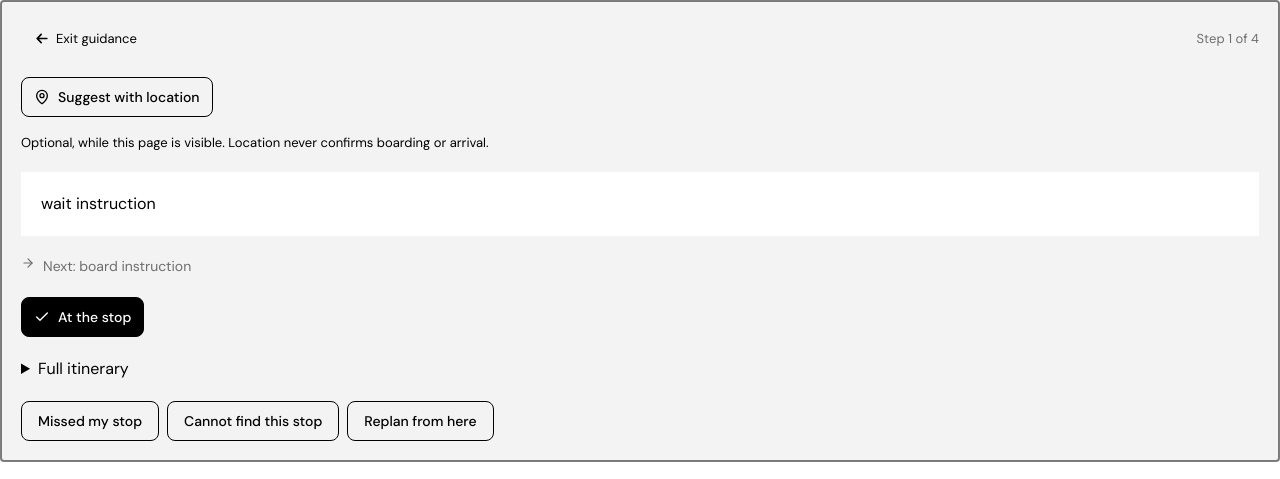
it: Passenger-controlled guidance › requires explicit arrival confirmation and allows undo
Click the button "At the stop": (83, 317) [21, 297, 144, 337]
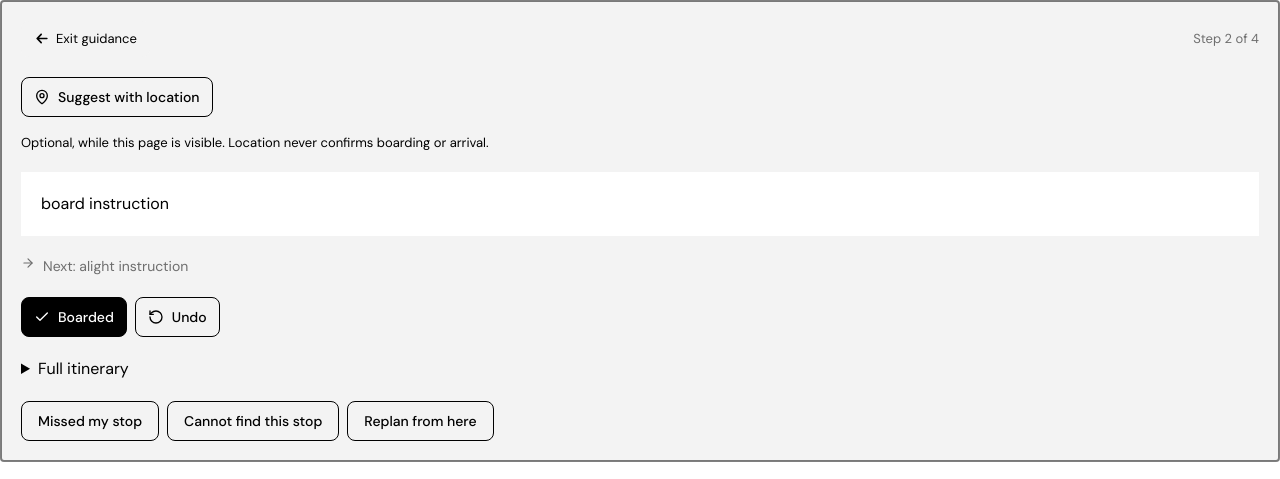
Click the button "Boarded": (74, 317) [21, 297, 127, 337]
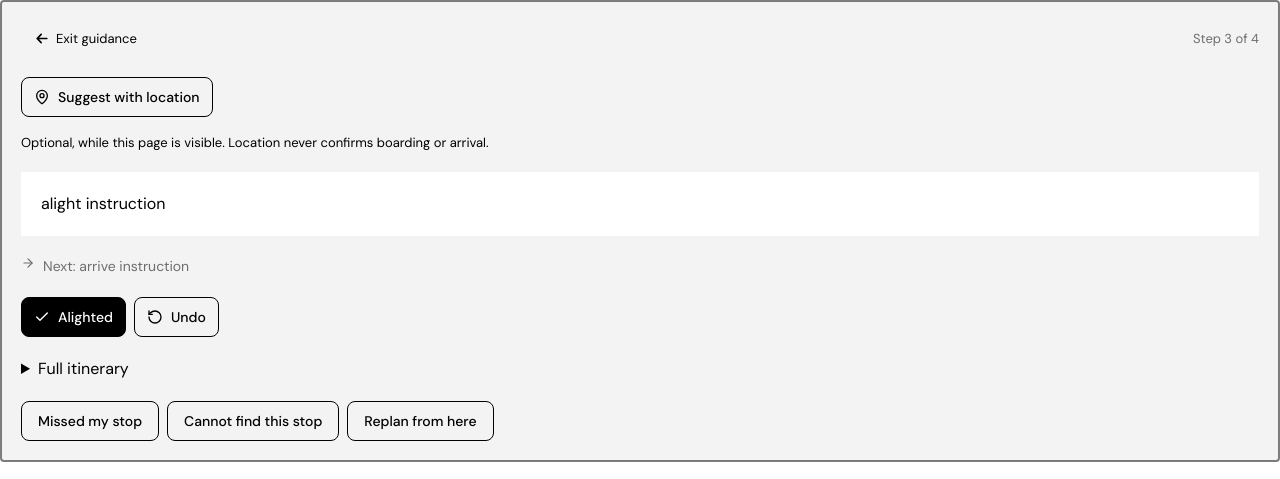
Click the button "Alighted": (74, 317) [21, 297, 126, 337]
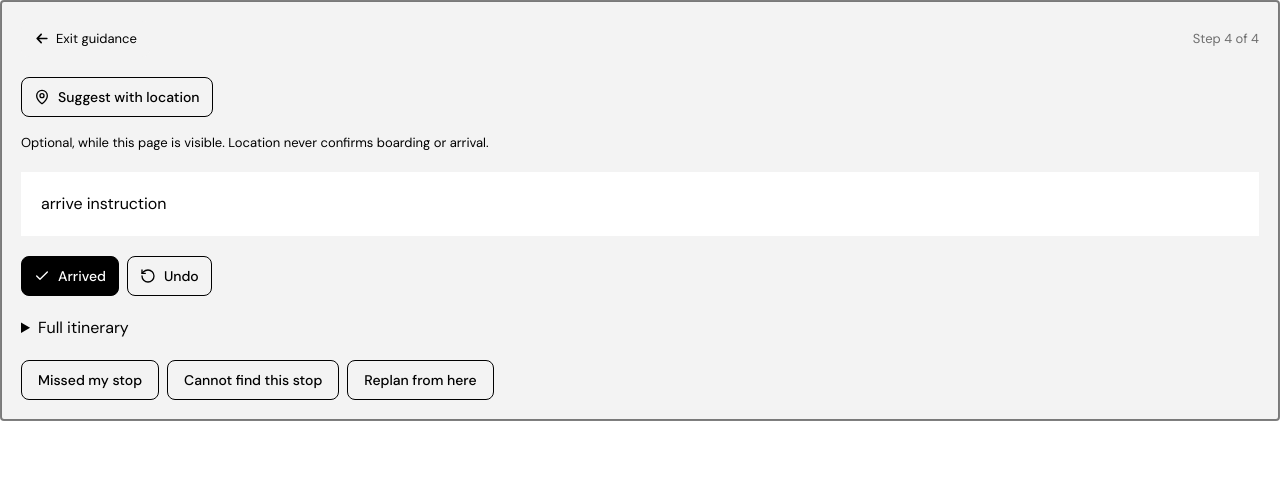
Expected: the text "Journey complete." is not shown
Click the button "Arrived": (70, 276) [21, 256, 119, 296]
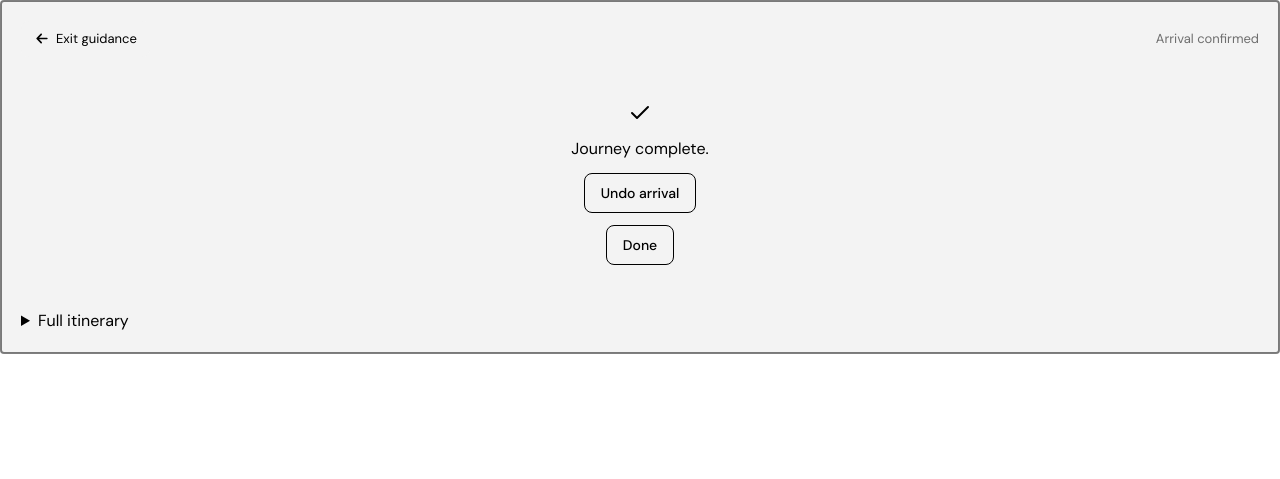
Now the text "Journey complete." is shown, box [571, 137, 709, 161]
Click the button "Undo arrival": (640, 193) [584, 173, 696, 213]
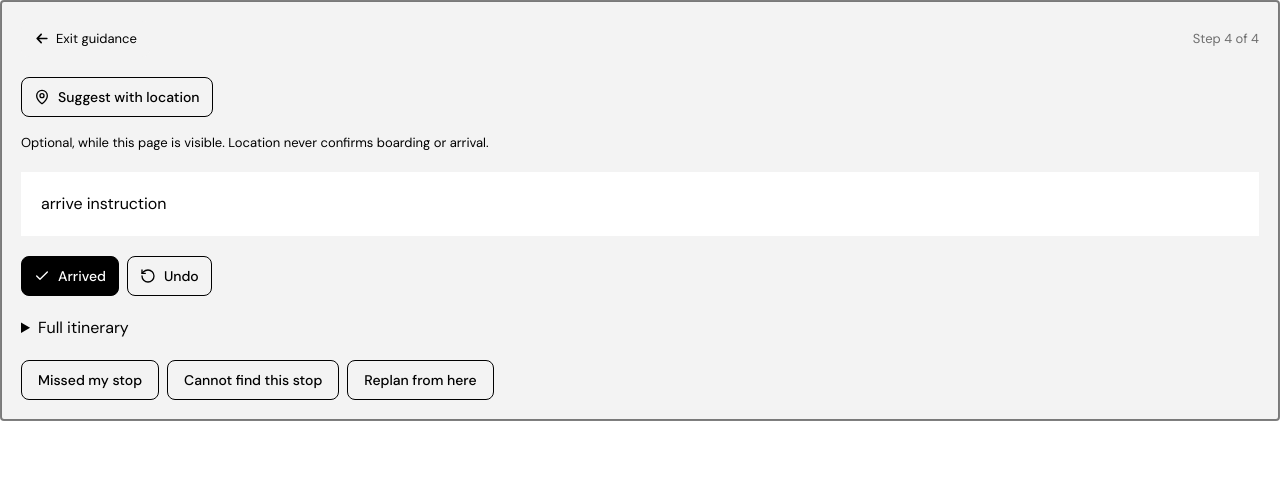
Now the text "Journey complete." is gone
